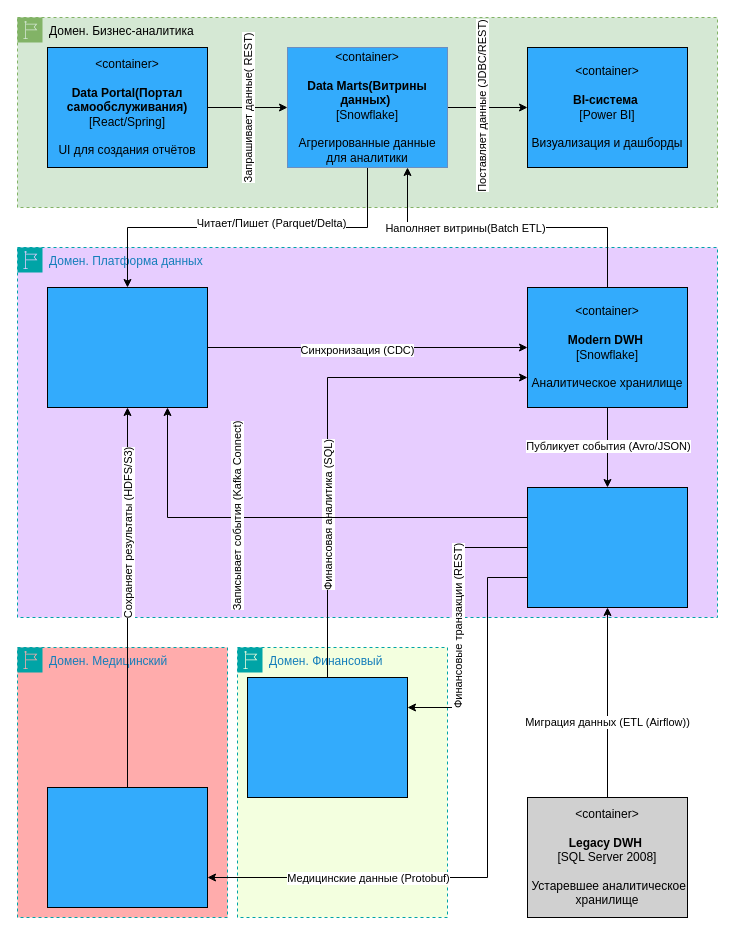
Some shapes in this 735 by 935 pixel diagram are drawn without their labels. The centre of each missing label's shape, as x and y in pixels:
<container> Data Hub(Сервис Интеграции) [ Kafka ] Event-Driven обмен данными: [607,547]
<container> Data Lake [S3 + Iceberg] Хранение сырых и очищенных данных: [127,347]
<container> ИИ-сервисы [Python(FastAPI, PySpark)] Обработка медицинских данных: [127,847]
<container> Финтех-сервисы [ Golang/Java ] Банковские операции, кредиты: [327,737]
